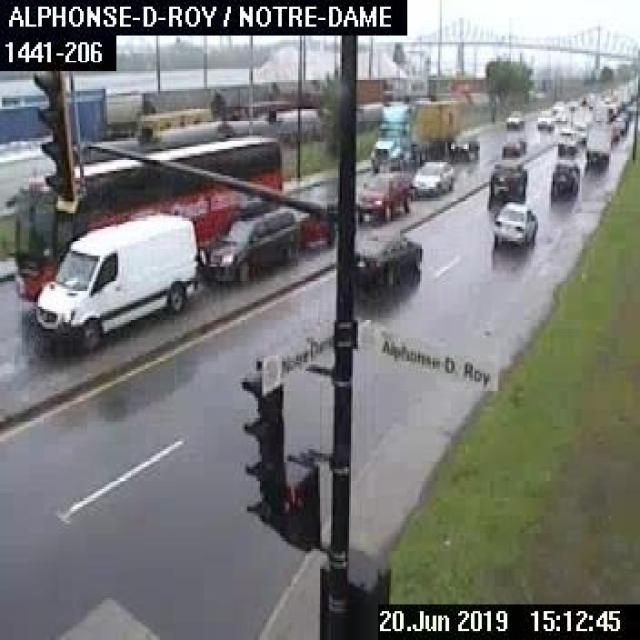bus: (409, 158, 454, 198)
vehicle: (8, 133, 286, 305), (28, 201, 200, 354), (195, 203, 300, 285), (365, 95, 461, 172), (351, 226, 422, 286), (354, 169, 415, 220), (487, 197, 538, 249), (486, 156, 526, 202), (582, 120, 611, 164), (446, 128, 482, 160), (500, 107, 525, 153), (549, 160, 580, 193), (553, 129, 576, 151), (534, 107, 554, 129)
